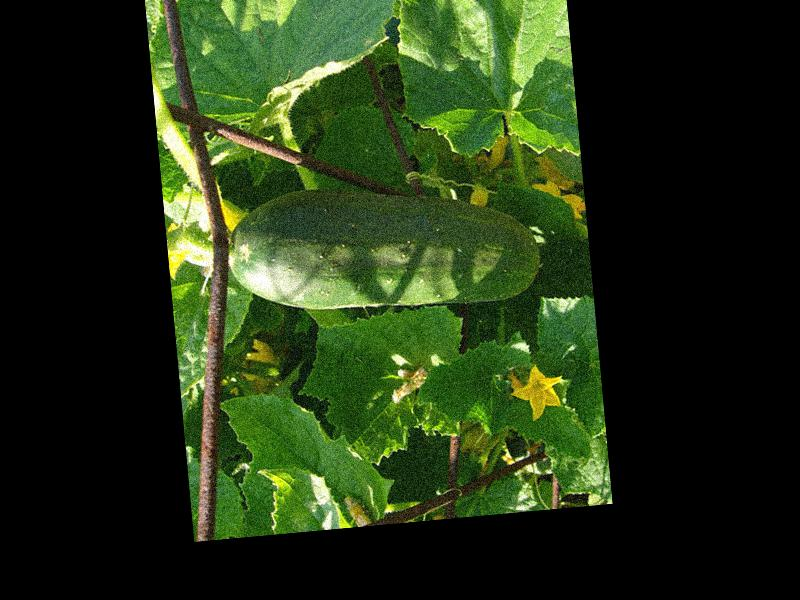Cucumber: (223, 166, 544, 325)
